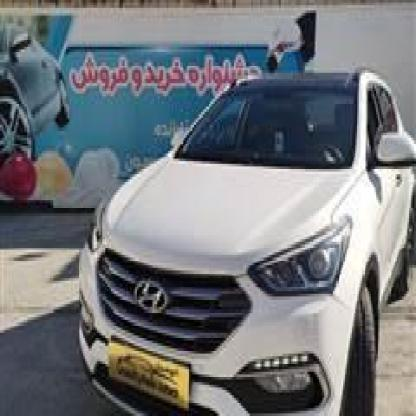Car: (69, 60, 416, 416)
